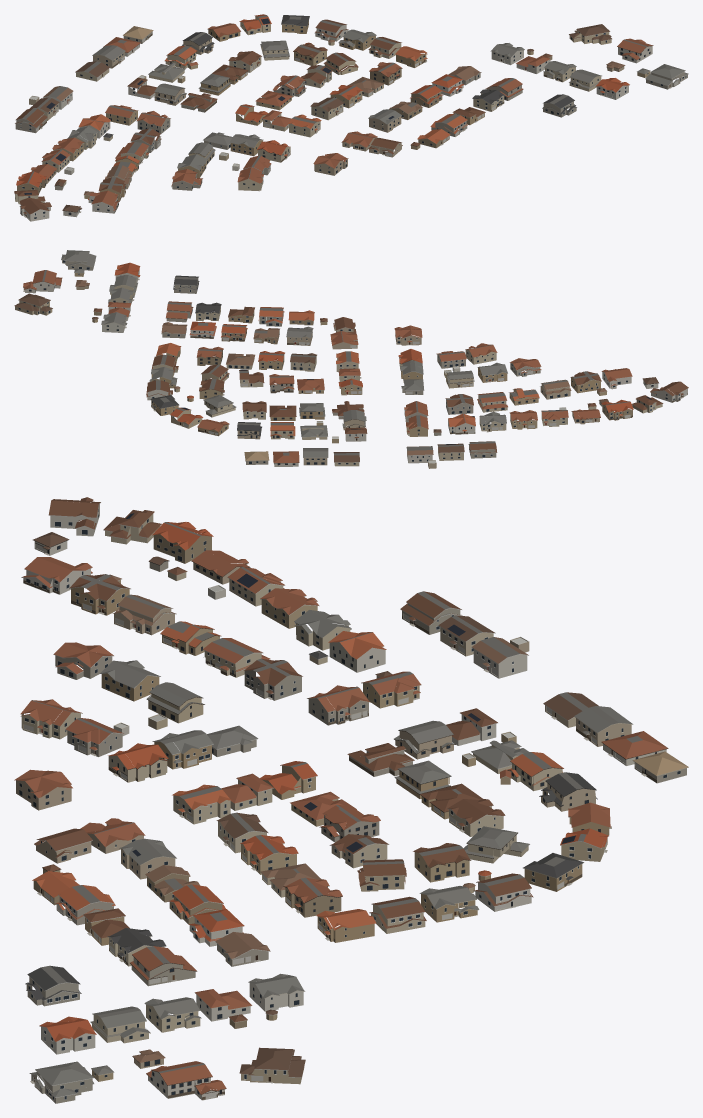
The picture shows the model from 3 angles, top to bottom: view 1: azimuth 30°, elevation 25°; view 2: azimuth 150°, elevation 25°; view 3: azimuth 270°, elevation 25°; orthographic projection. The views are drawn at different scales.
Parts seen in each view (by area): view 1: buildings_r0_c4_lod0; view 2: buildings_r0_c4_lod0; view 3: buildings_r0_c4_lod0.
Part boxes in pixels (x1,y1,x2,y2): buildings_r0_c4_lod0: (14,14,688,221); buildings_r0_c4_lod0: (14,250,688,468); buildings_r0_c4_lod0: (14,497,688,1103).
Bounding box in the file's own units: 533 × 23.93 × 270.
